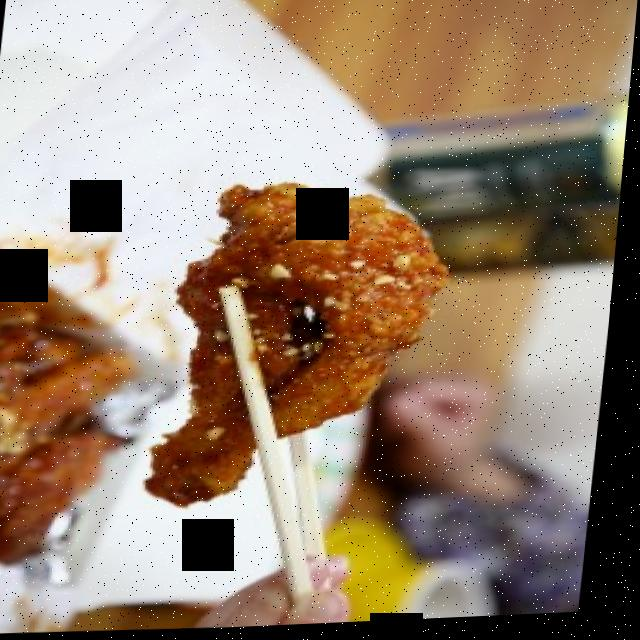Frango: (148, 168, 474, 515), (0, 301, 141, 557)
